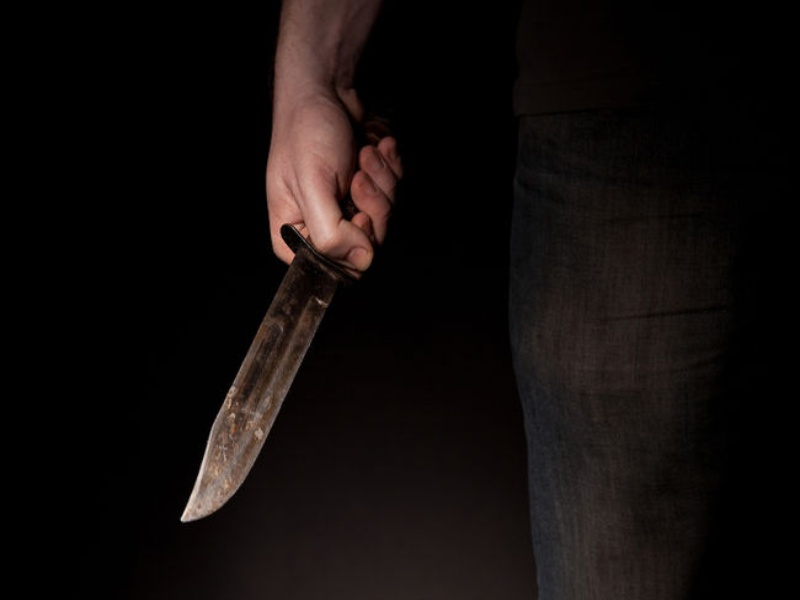hand: (263, 89, 402, 271)
knife: (179, 232, 346, 523)
